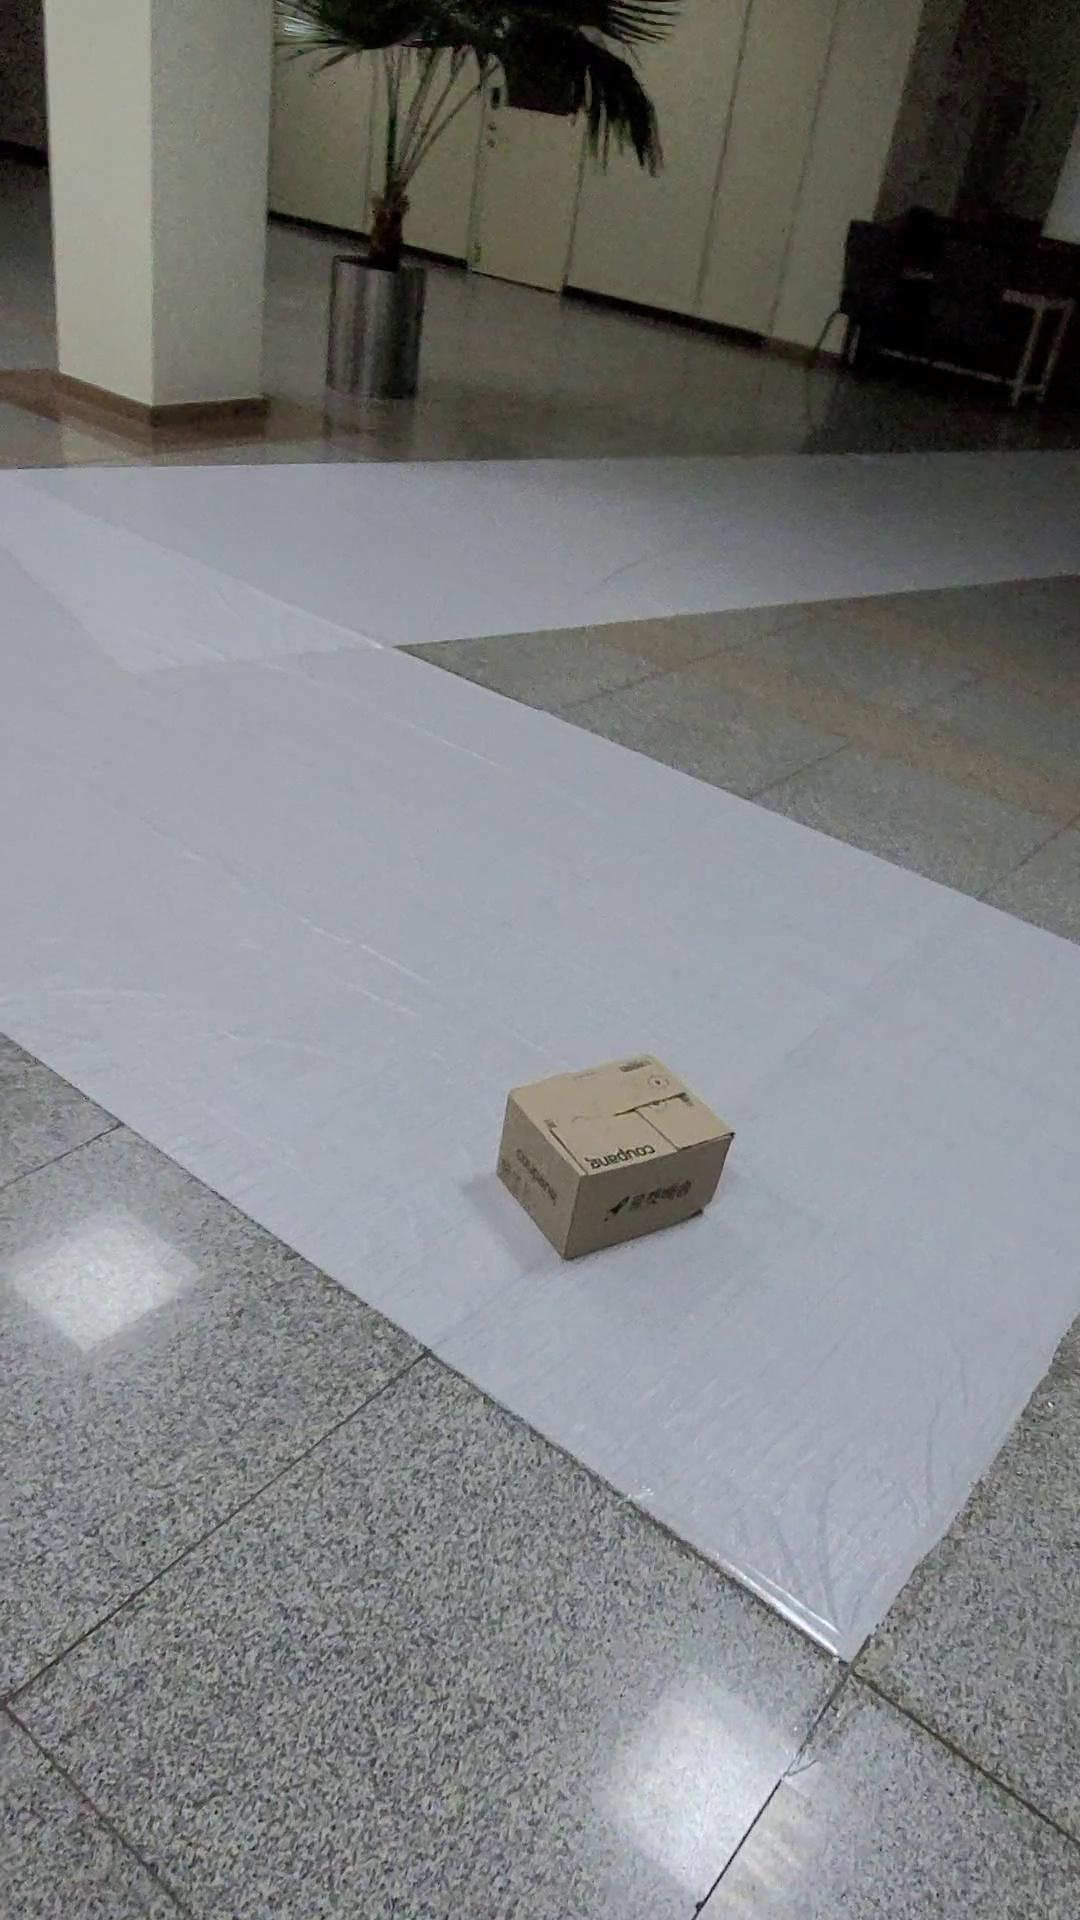Box: (481, 1004, 756, 1284)
